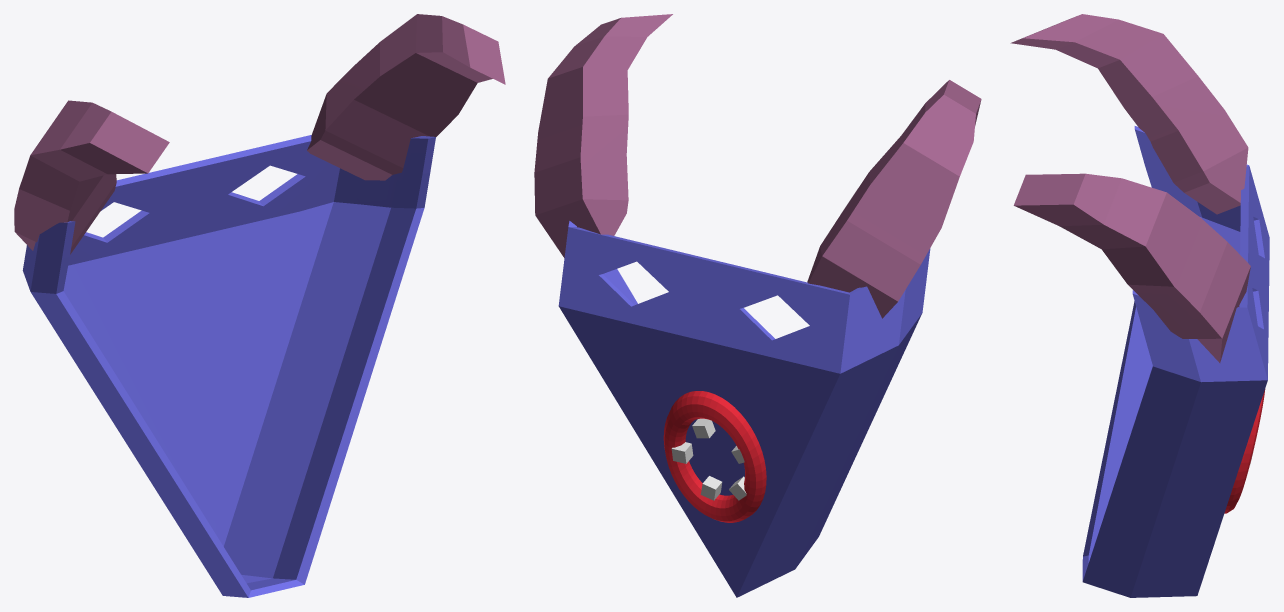
Rendered from Maska Animation.fbx.
3 views of the same model, side by side, from view 1: azimuth 30°, elevation 25°; view 2: azimuth 150°, elevation 25°; view 3: azimuth 270°, elevation 25° (orthographic). The views are drawn at different scales.
Visible parts, largest first — view 1: Mask; view 2: Mask; view 3: Mask.
Part boxes in pixels (<box>): Mask: <box>14,14,505,597</box>; Mask: <box>534,14,981,597</box>; Mask: <box>1010,14,1269,597</box>.
Bounding box in the file's own units: 120 × 139 × 64.6.
